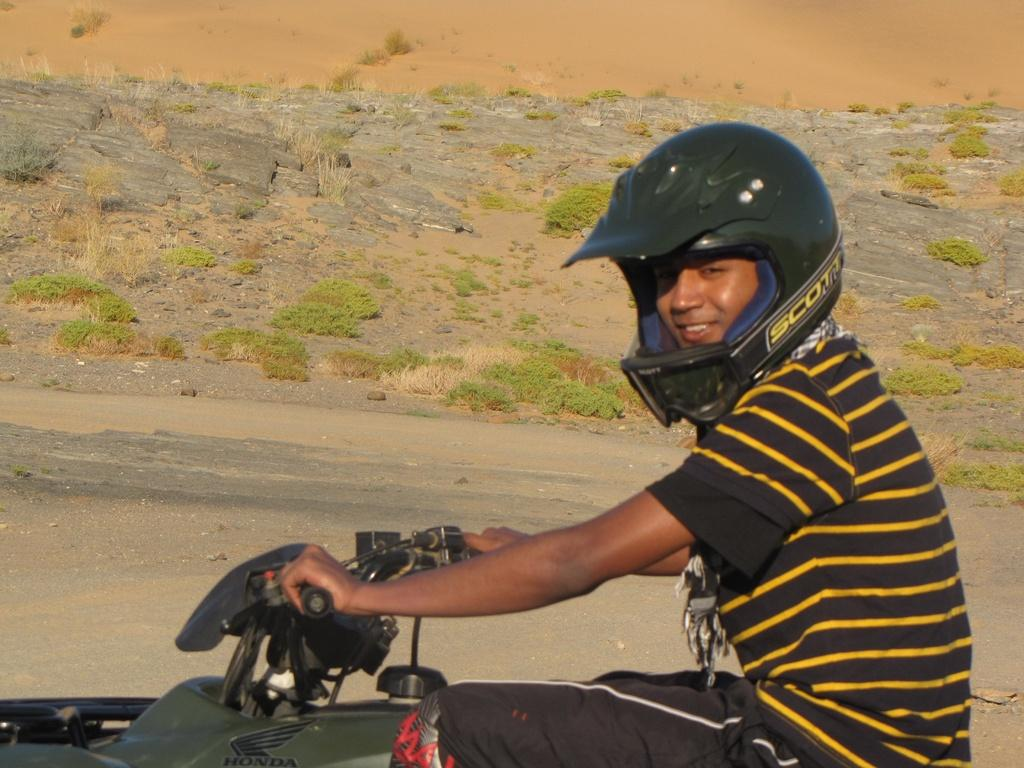helmet: (560, 121, 845, 419)
